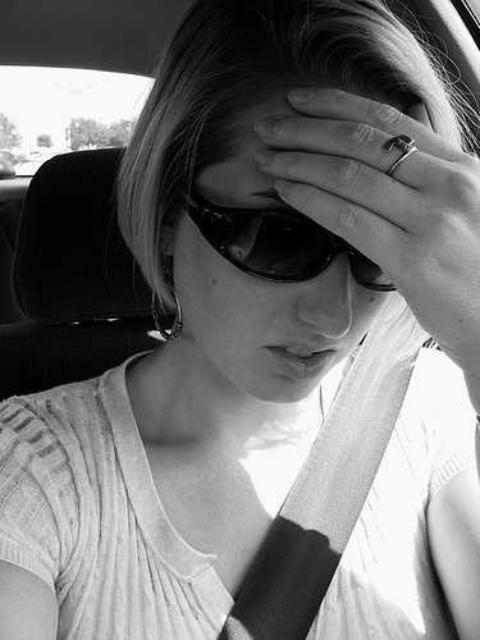Seatbelt: (208, 282, 448, 640)
